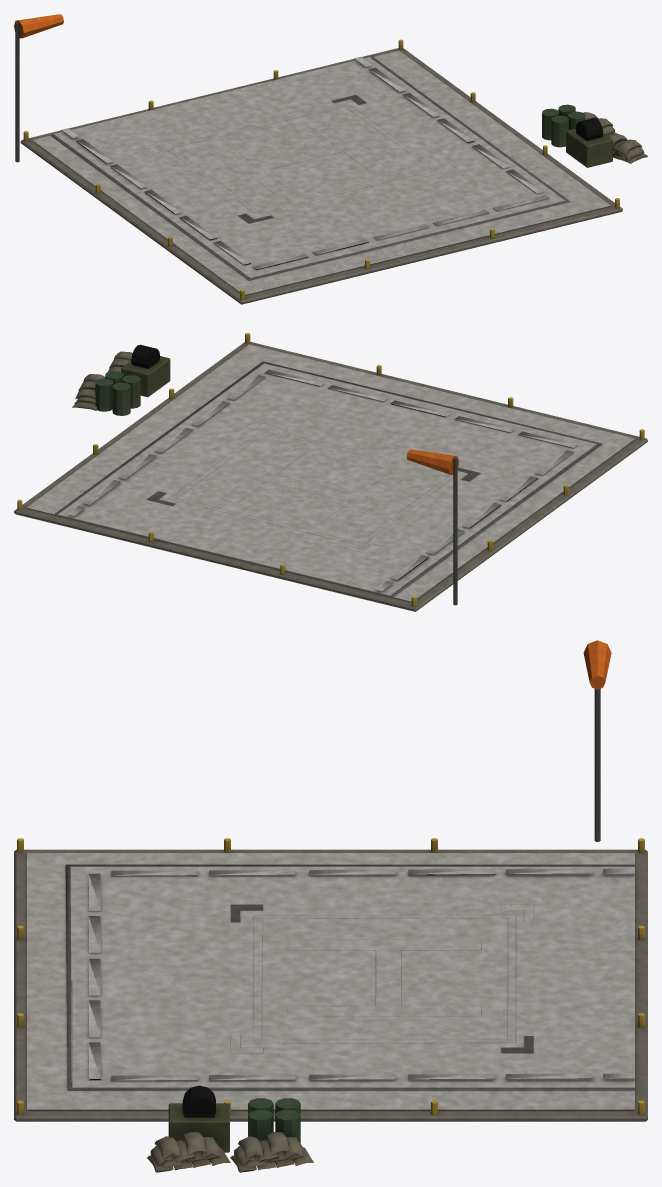
File: hpad.glb
3 renders of one model, top to bottom at view 1: azimuth 30°, elevation 25°; view 2: azimuth 150°, elevation 25°; view 3: azimuth 270°, elevation 25°, orthographic. The views are drawn at different scales.
Visible parts, largest first — view 1: hull; view 2: hull; view 3: hull.
Part boxes in pixels (left/top/right/bottom): hull: left=14, top=14, right=647, bottom=304; hull: left=14, top=333, right=647, bottom=611; hull: left=14, top=640, right=647, bottom=1172.
Size of the model in its own units: 18.05 by 5.07 by 14.46.
Materials: 1 (1 with a texture image).
